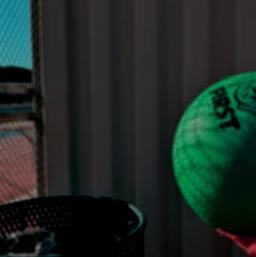algae: (168, 66, 256, 231)
